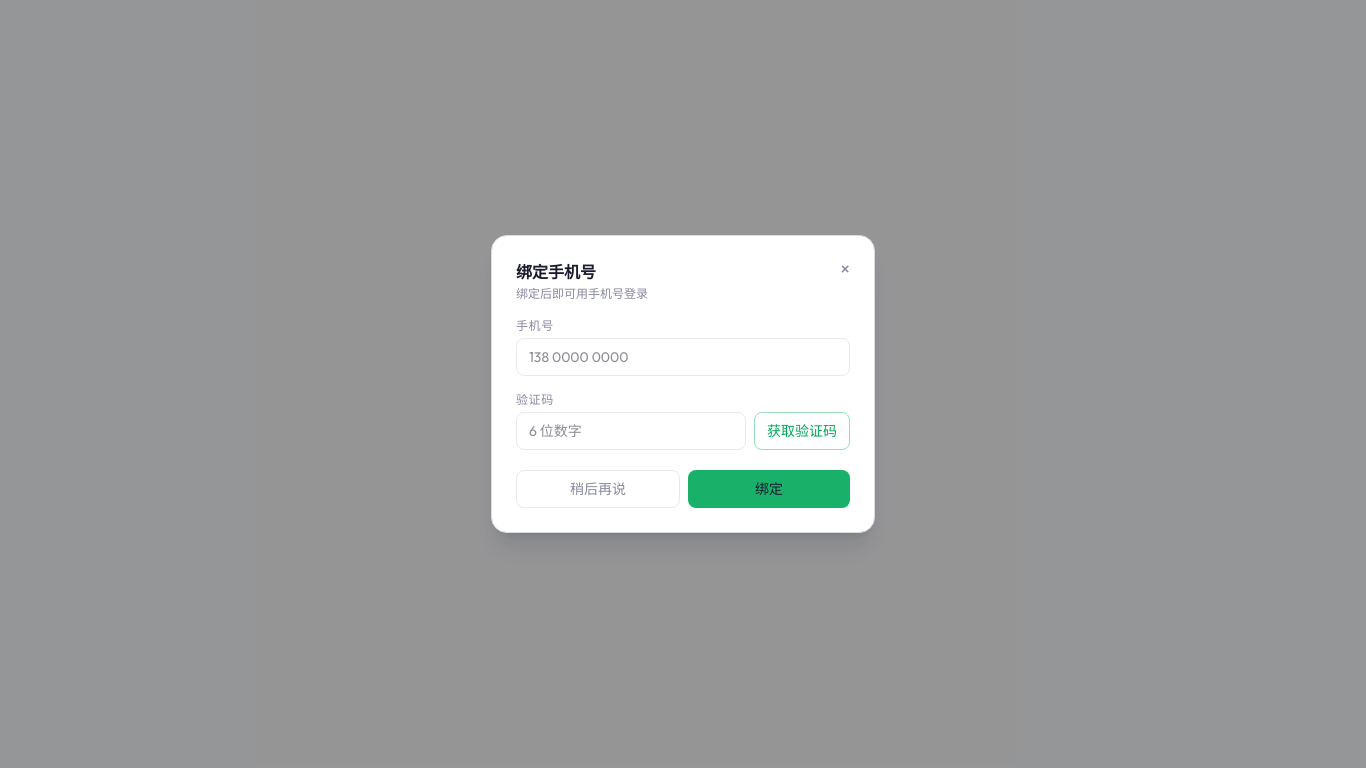
Scenario: PhoneBindModal › rejects an invalid phone before any request
Type "12345" into the field labelled "手机号".
click(683, 357); type("12345")  # box x1=516 y1=338 x2=850 y2=376
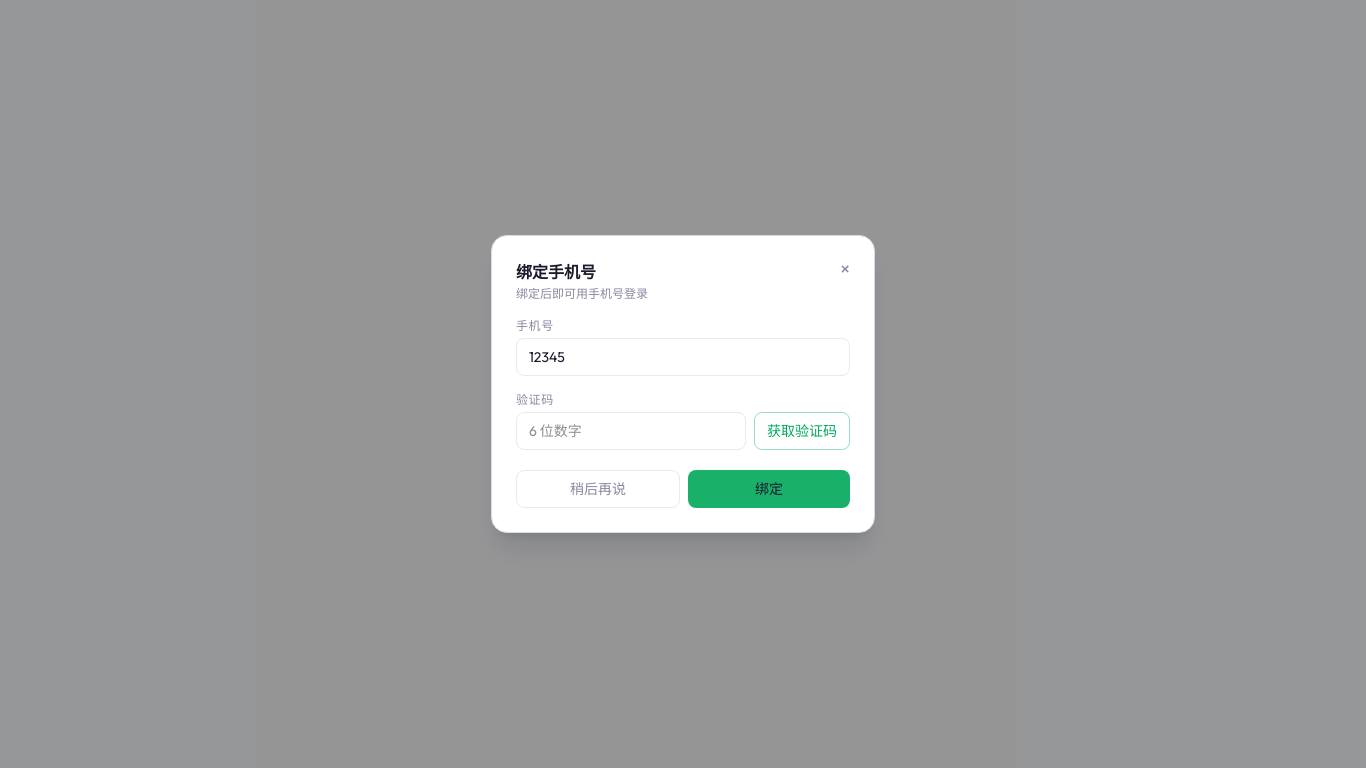
Click the button "获取验证码".
click(802, 431)  # box x1=754 y1=412 x2=850 y2=450
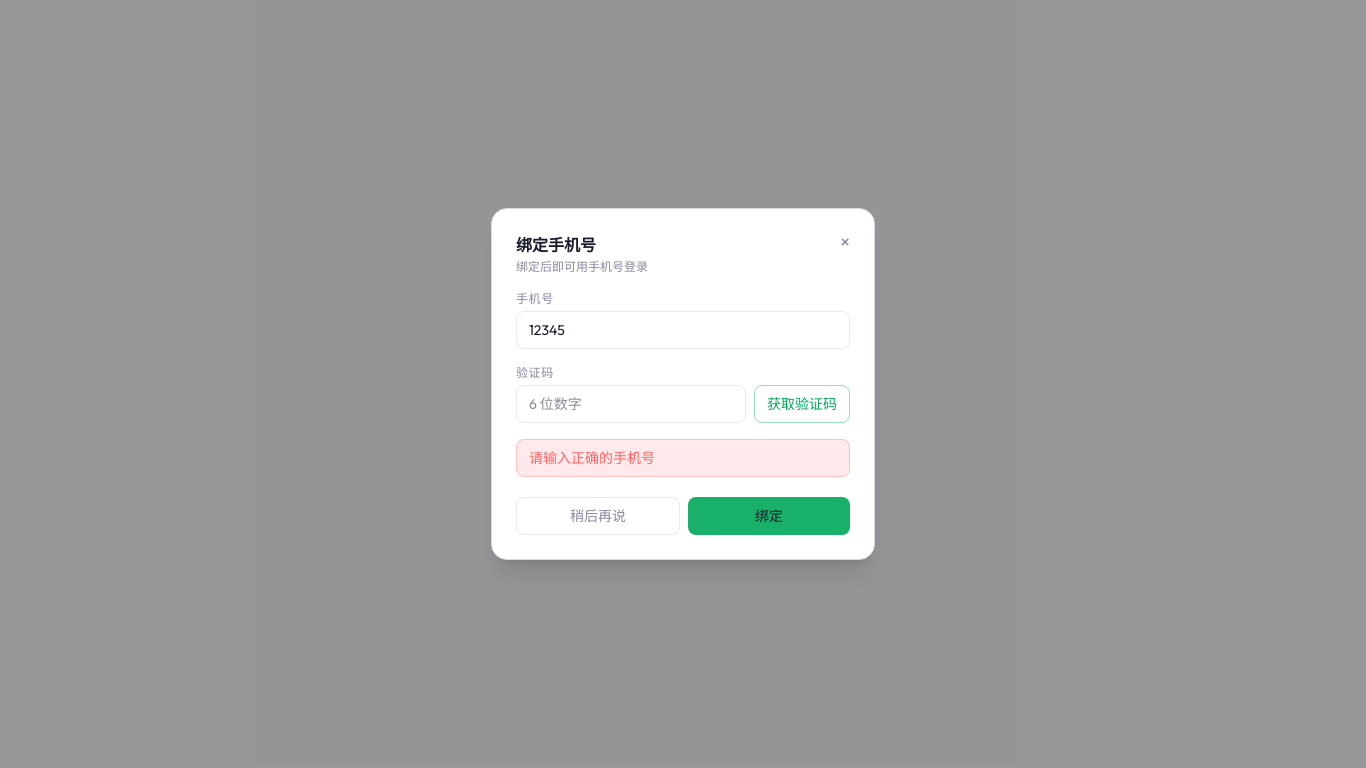
Expected: the text "请输入正确的手机号" is shown, x1=516 y1=439 x2=850 y2=477
